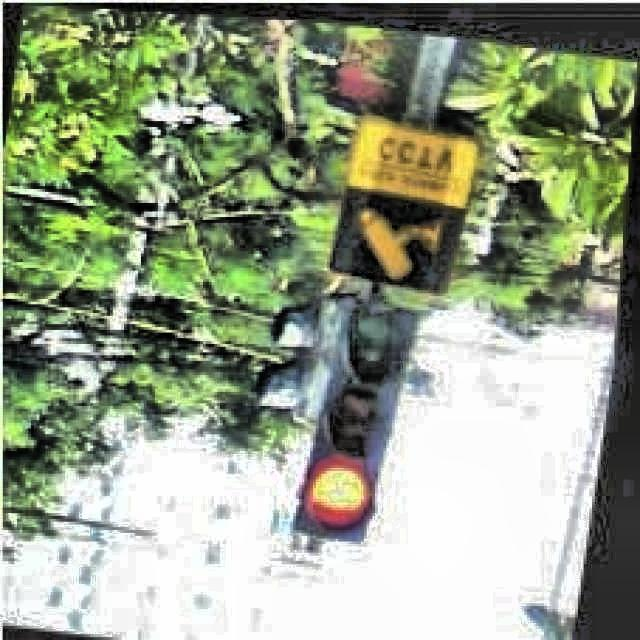red: (295, 299, 418, 551)
